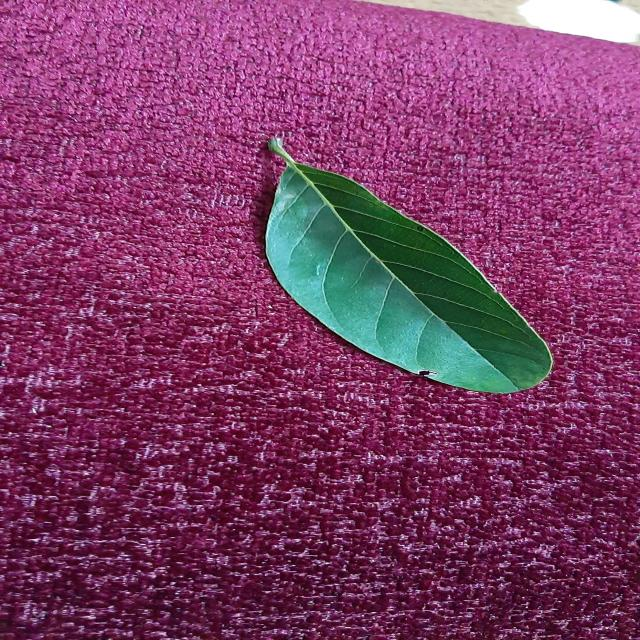seethaphala: (266, 139, 553, 392)
